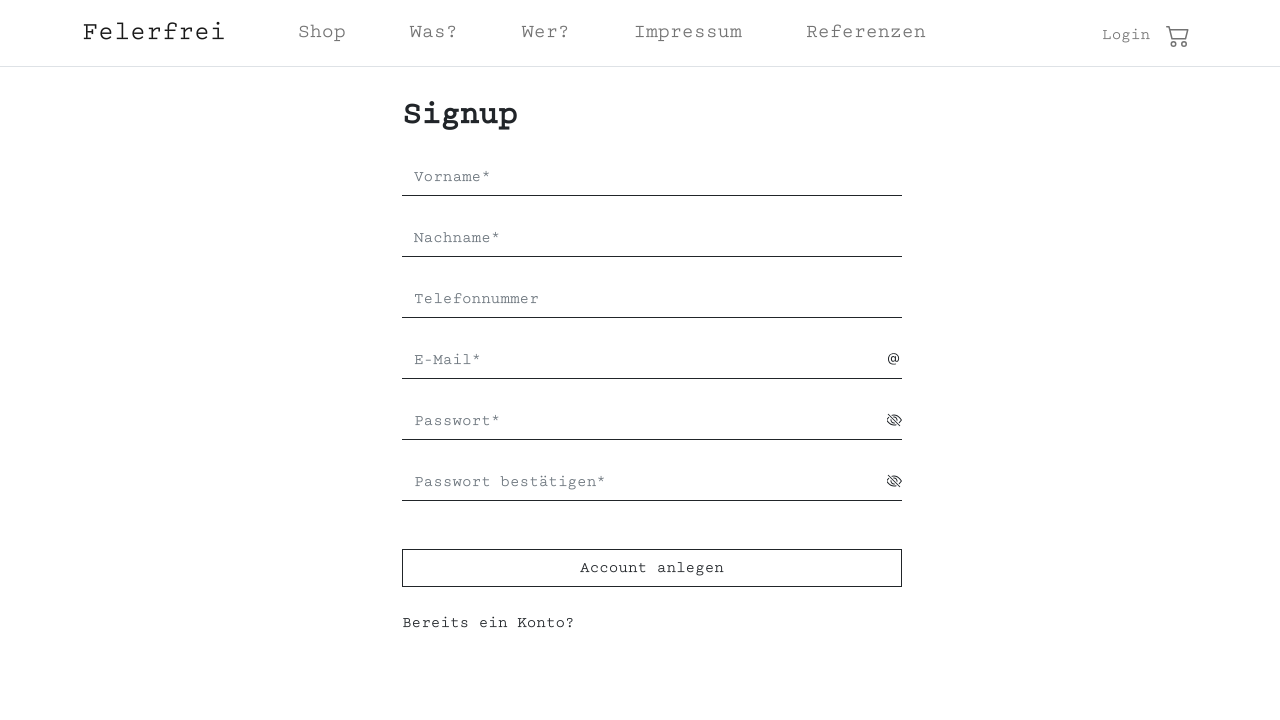
Test case: Signup › signpu#5 Can not sign in if lastname is empty
The image size is (1280, 720).
Type "Max" into the field with placeholder "Vorname*" at (652, 178), box x1=402 y1=159 x2=902 y2=196
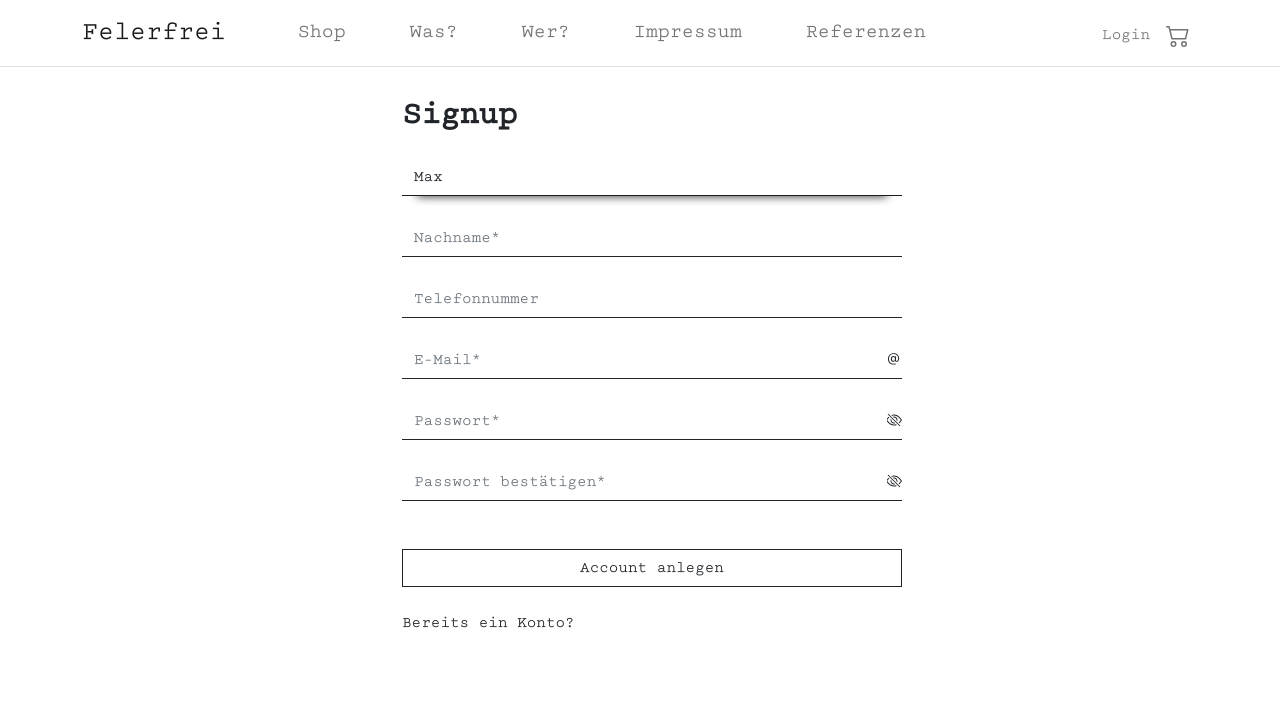
Type "0123456789" into the field with placeholder "Telefonnummer" at (652, 300), box x1=402 y1=281 x2=902 y2=318
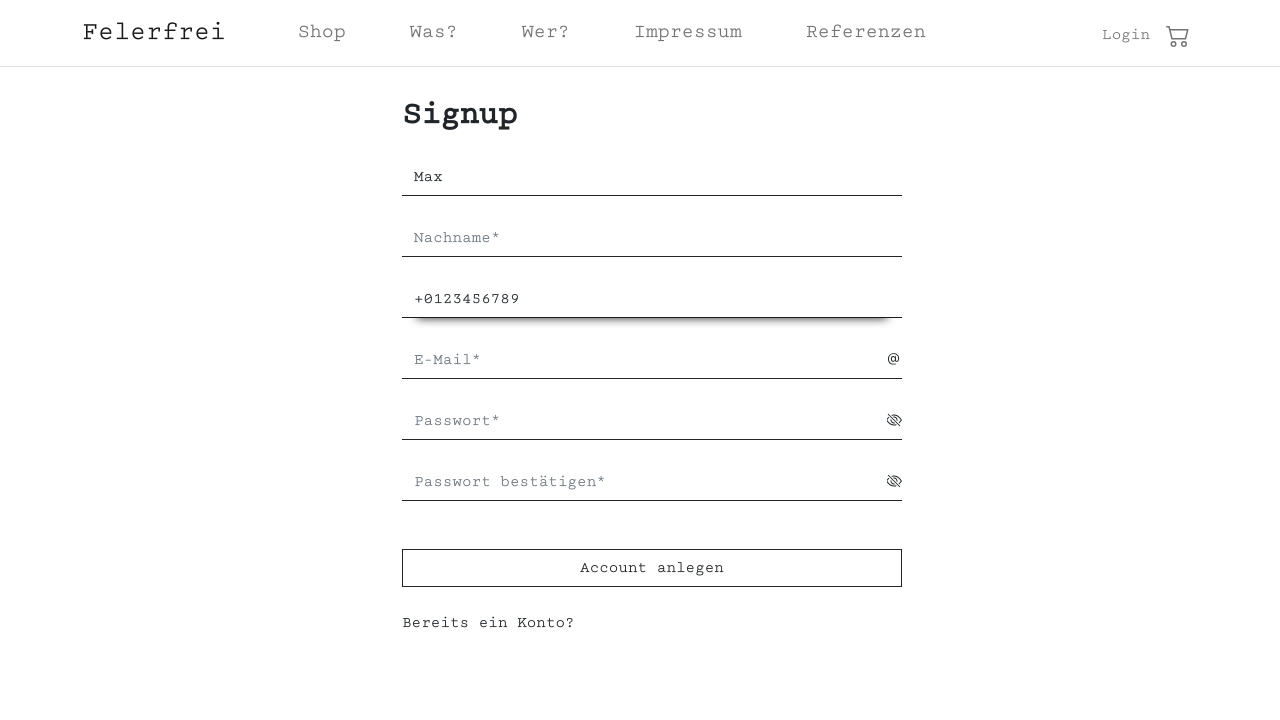
Type "max.mustermann@gmail.com" into the field with placeholder "E-Mail*" at (645, 361), box x1=402 y1=342 x2=887 y2=379
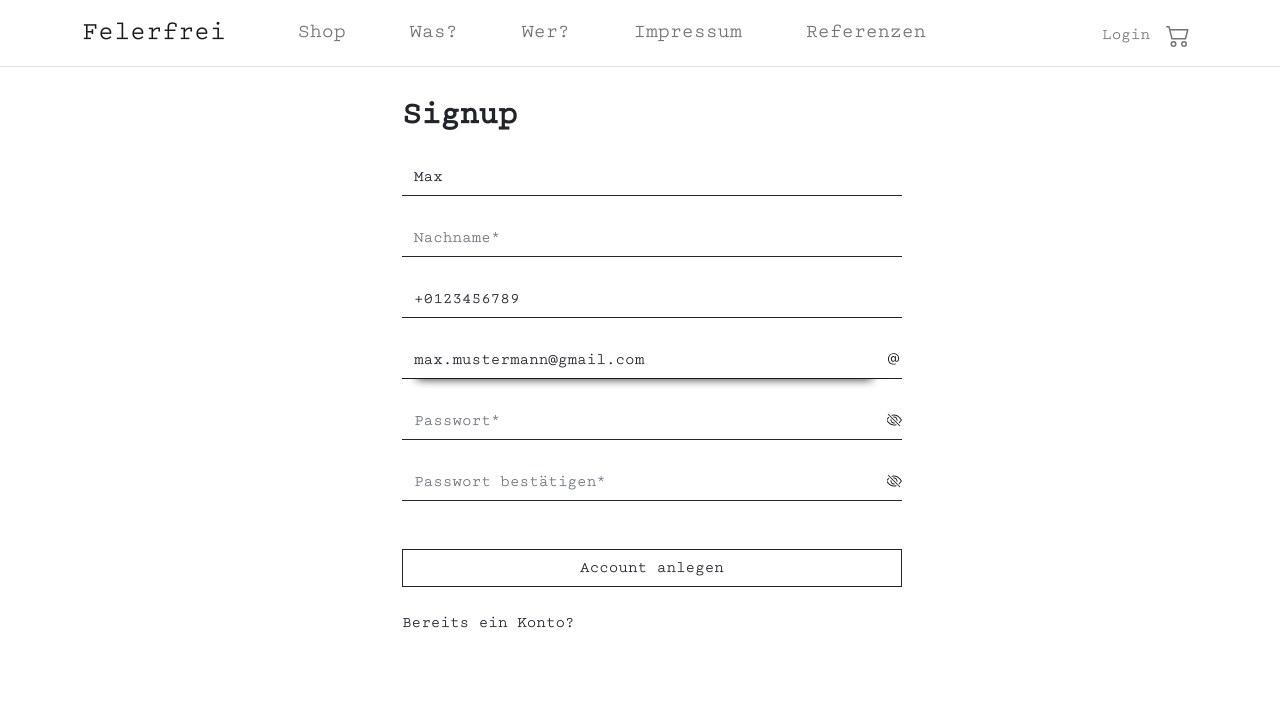
Type "!Passwort123" into the password field with placeholder "Passwort*" at (645, 422), box x1=402 y1=403 x2=887 y2=440
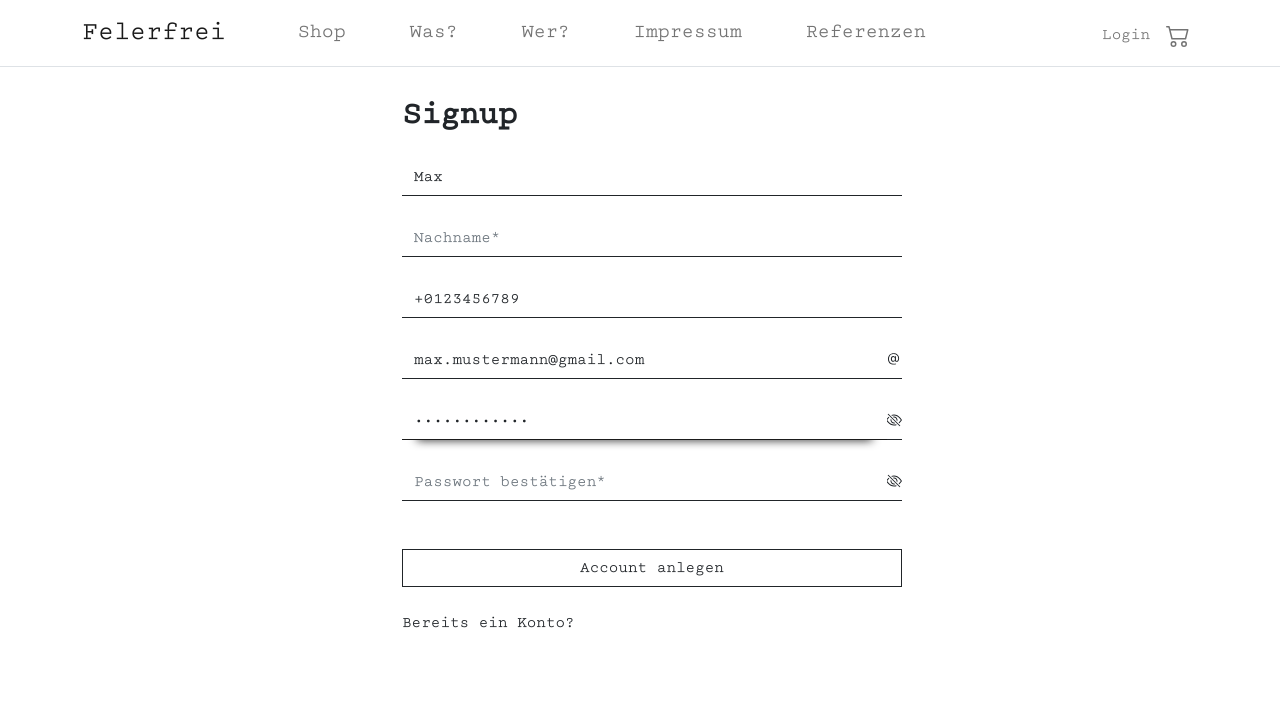
Type "!Passwort123" into the password field with placeholder "Passwort bestätigen*" at (645, 483), box x1=402 y1=464 x2=887 y2=501
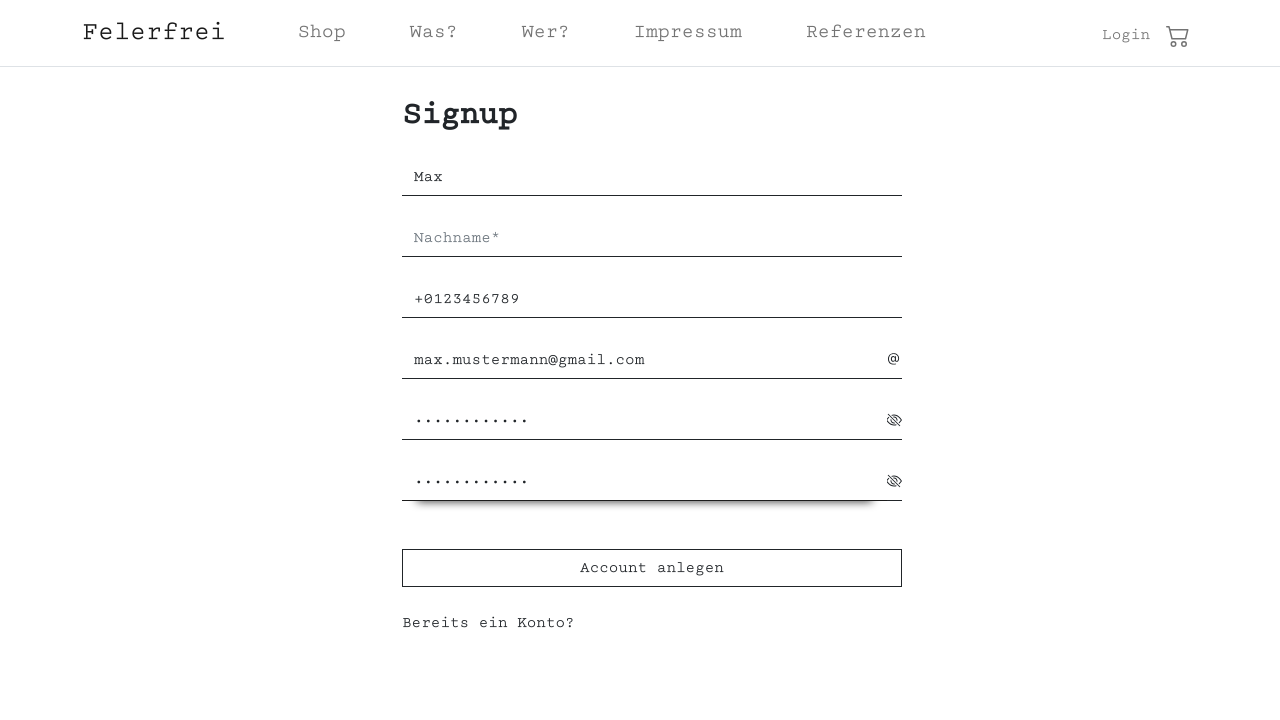
Click the button "Account anlegen" at (652, 568), box x1=402 y1=549 x2=902 y2=587
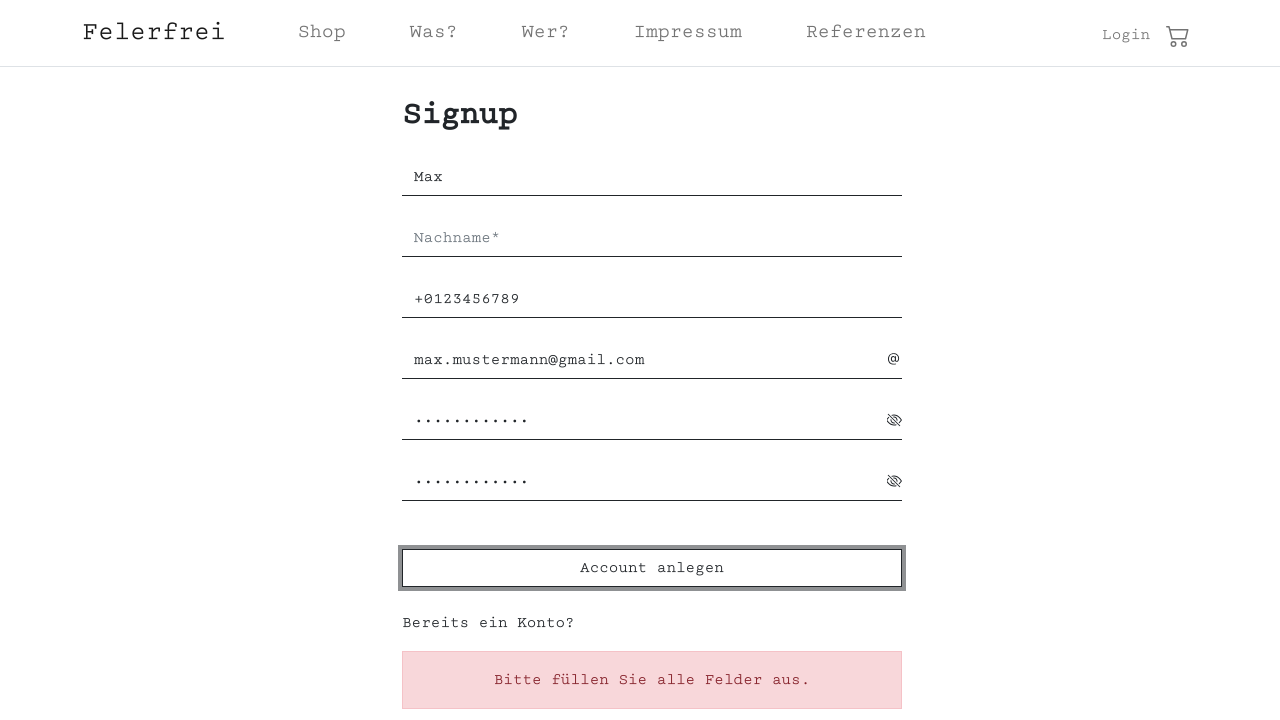
Expected: the text "Bitte füllen Sie alle Felder aus" is shown, x1=494 y1=673 x2=811 y2=687
